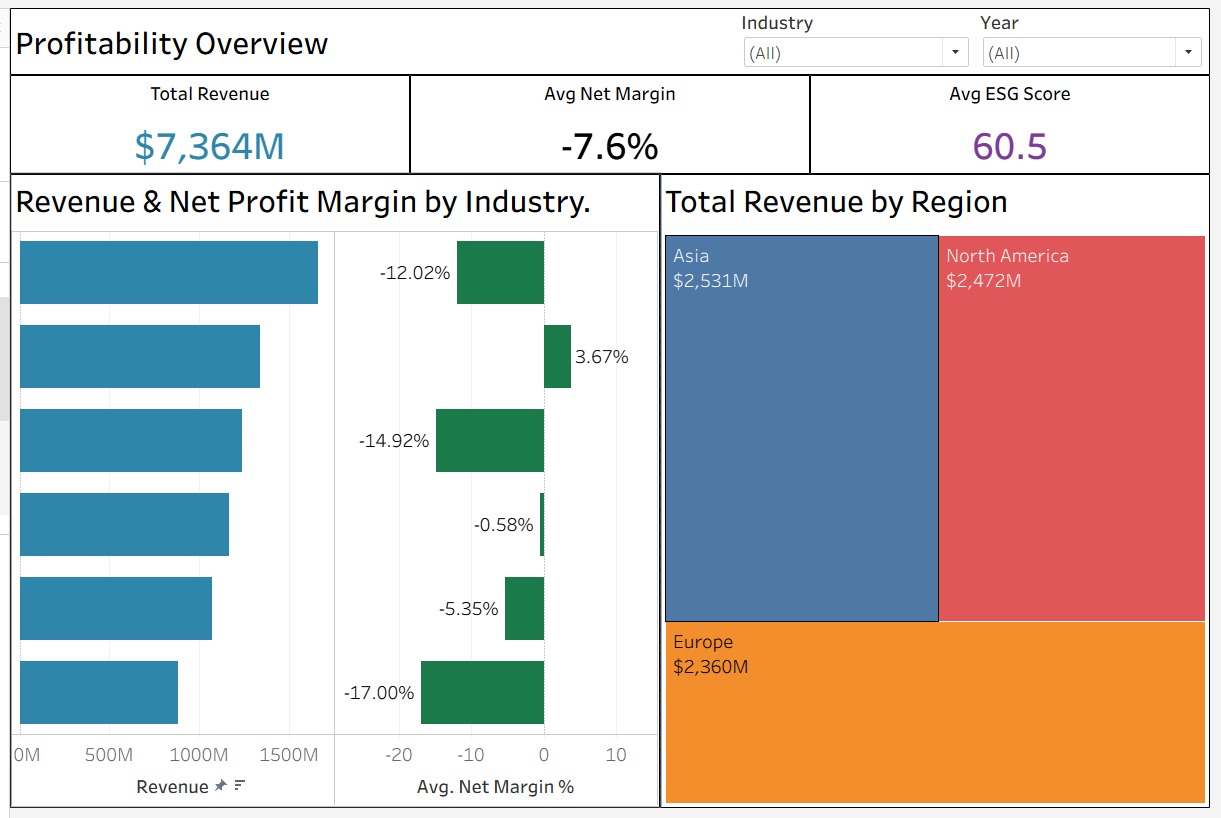

The dashboard page shown, as its layout file describes it:
{"tool":"tableau","page":{"name":"Profitability Overview","canvas":[1200,800],"ordinal":1},"visuals":[{"type":"text","box":[1,1,726,65]},{"type":"filter","title":"Industry Performance","param":"[federated.15gj2190fk1kot1fgog9l0c8op5l].[none:industry:nk]","box":[727,1,239,65]},{"type":"filter","title":"Industry Performance","param":"[federated.15gj2190fk1kot1fgog9l0c8op5l].[none:year:nk]","box":[966,1,233,65]},{"type":"worksheet","title":"KPI – Total Revenue","mark":"Text","box":[0,67,400,99]},{"type":"worksheet","title":"KPI – Avg Net Margin","mark":"Automatic","box":[400,67,400,99]},{"type":"worksheet","title":"KPI – Avg ESG Score","mark":"Automatic","box":[800,67,400,99]},{"type":"worksheet","title":"Industry Performance","mark":"Automatic","rows":["industry"],"cols":["revenue","net_margin_pct"],"box":[0,166.3,650,633.6]},{"type":"worksheet","title":"Revenue by Region","mark":"Square","box":[650,166.3,550,633.6]}]}

Visuals, with their boxes in screenshot pixels (x1, y1, x2, y2), scaled from the page's 1200x800 canvas onto the 1221x818 screenshot:
text: BBox(1, 1, 740, 67)
"Industry Performance" filter: BBox(740, 1, 983, 67)
"Industry Performance" filter: BBox(983, 1, 1220, 67)
"KPI – Total Revenue" worksheet (Text marks): BBox(0, 69, 407, 170)
"KPI – Avg Net Margin" worksheet: BBox(407, 69, 814, 170)
"KPI – Avg ESG Score" worksheet: BBox(814, 69, 1220, 170)
"Industry Performance" worksheet: BBox(0, 170, 661, 817)
"Revenue by Region" worksheet (Square marks): BBox(661, 170, 1220, 817)
